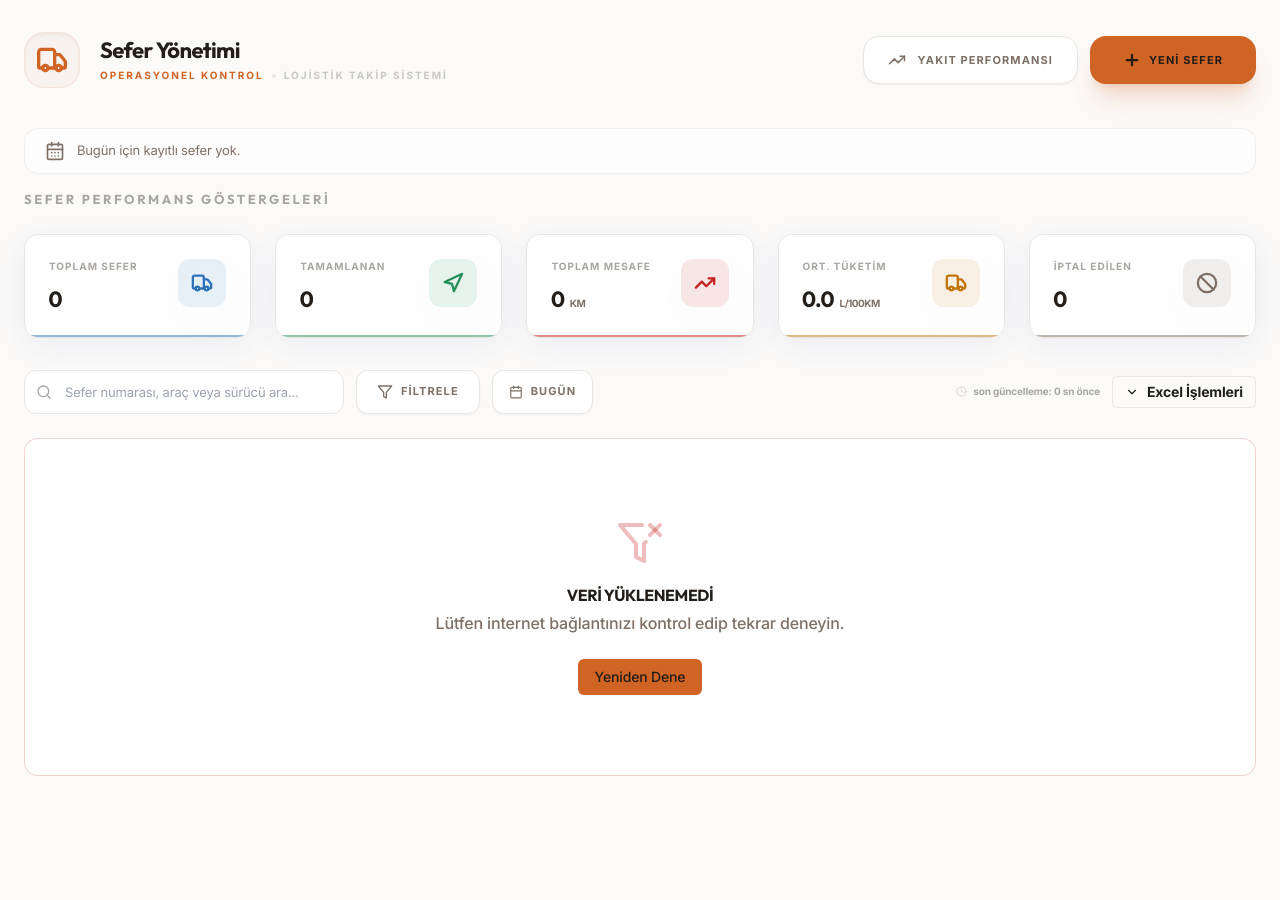
Test: TripsModule Resilience Tests › recovers from error when "Yeniden Dene" is clicked
Expected: the heading "Veri Yüklenemedi" is shown, x1=567 y1=582 x2=713 y2=606
Click the button "Yeniden Dene": {"x": 640, "y": 676} x1=578 y1=658 x2=702 y2=694
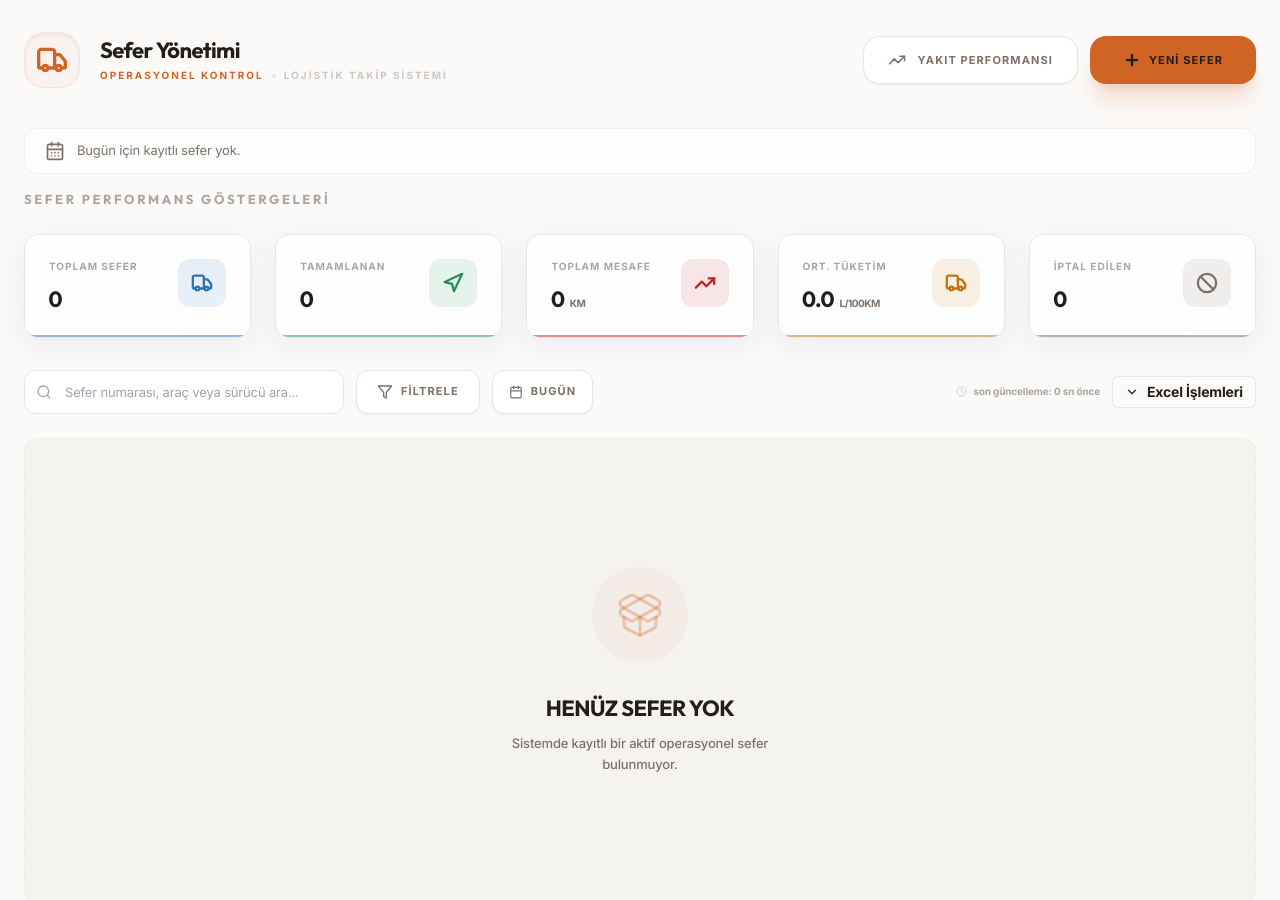
Now the heading "Henüz Sefer Yok" is shown, box x1=546 y1=694 x2=734 y2=721
